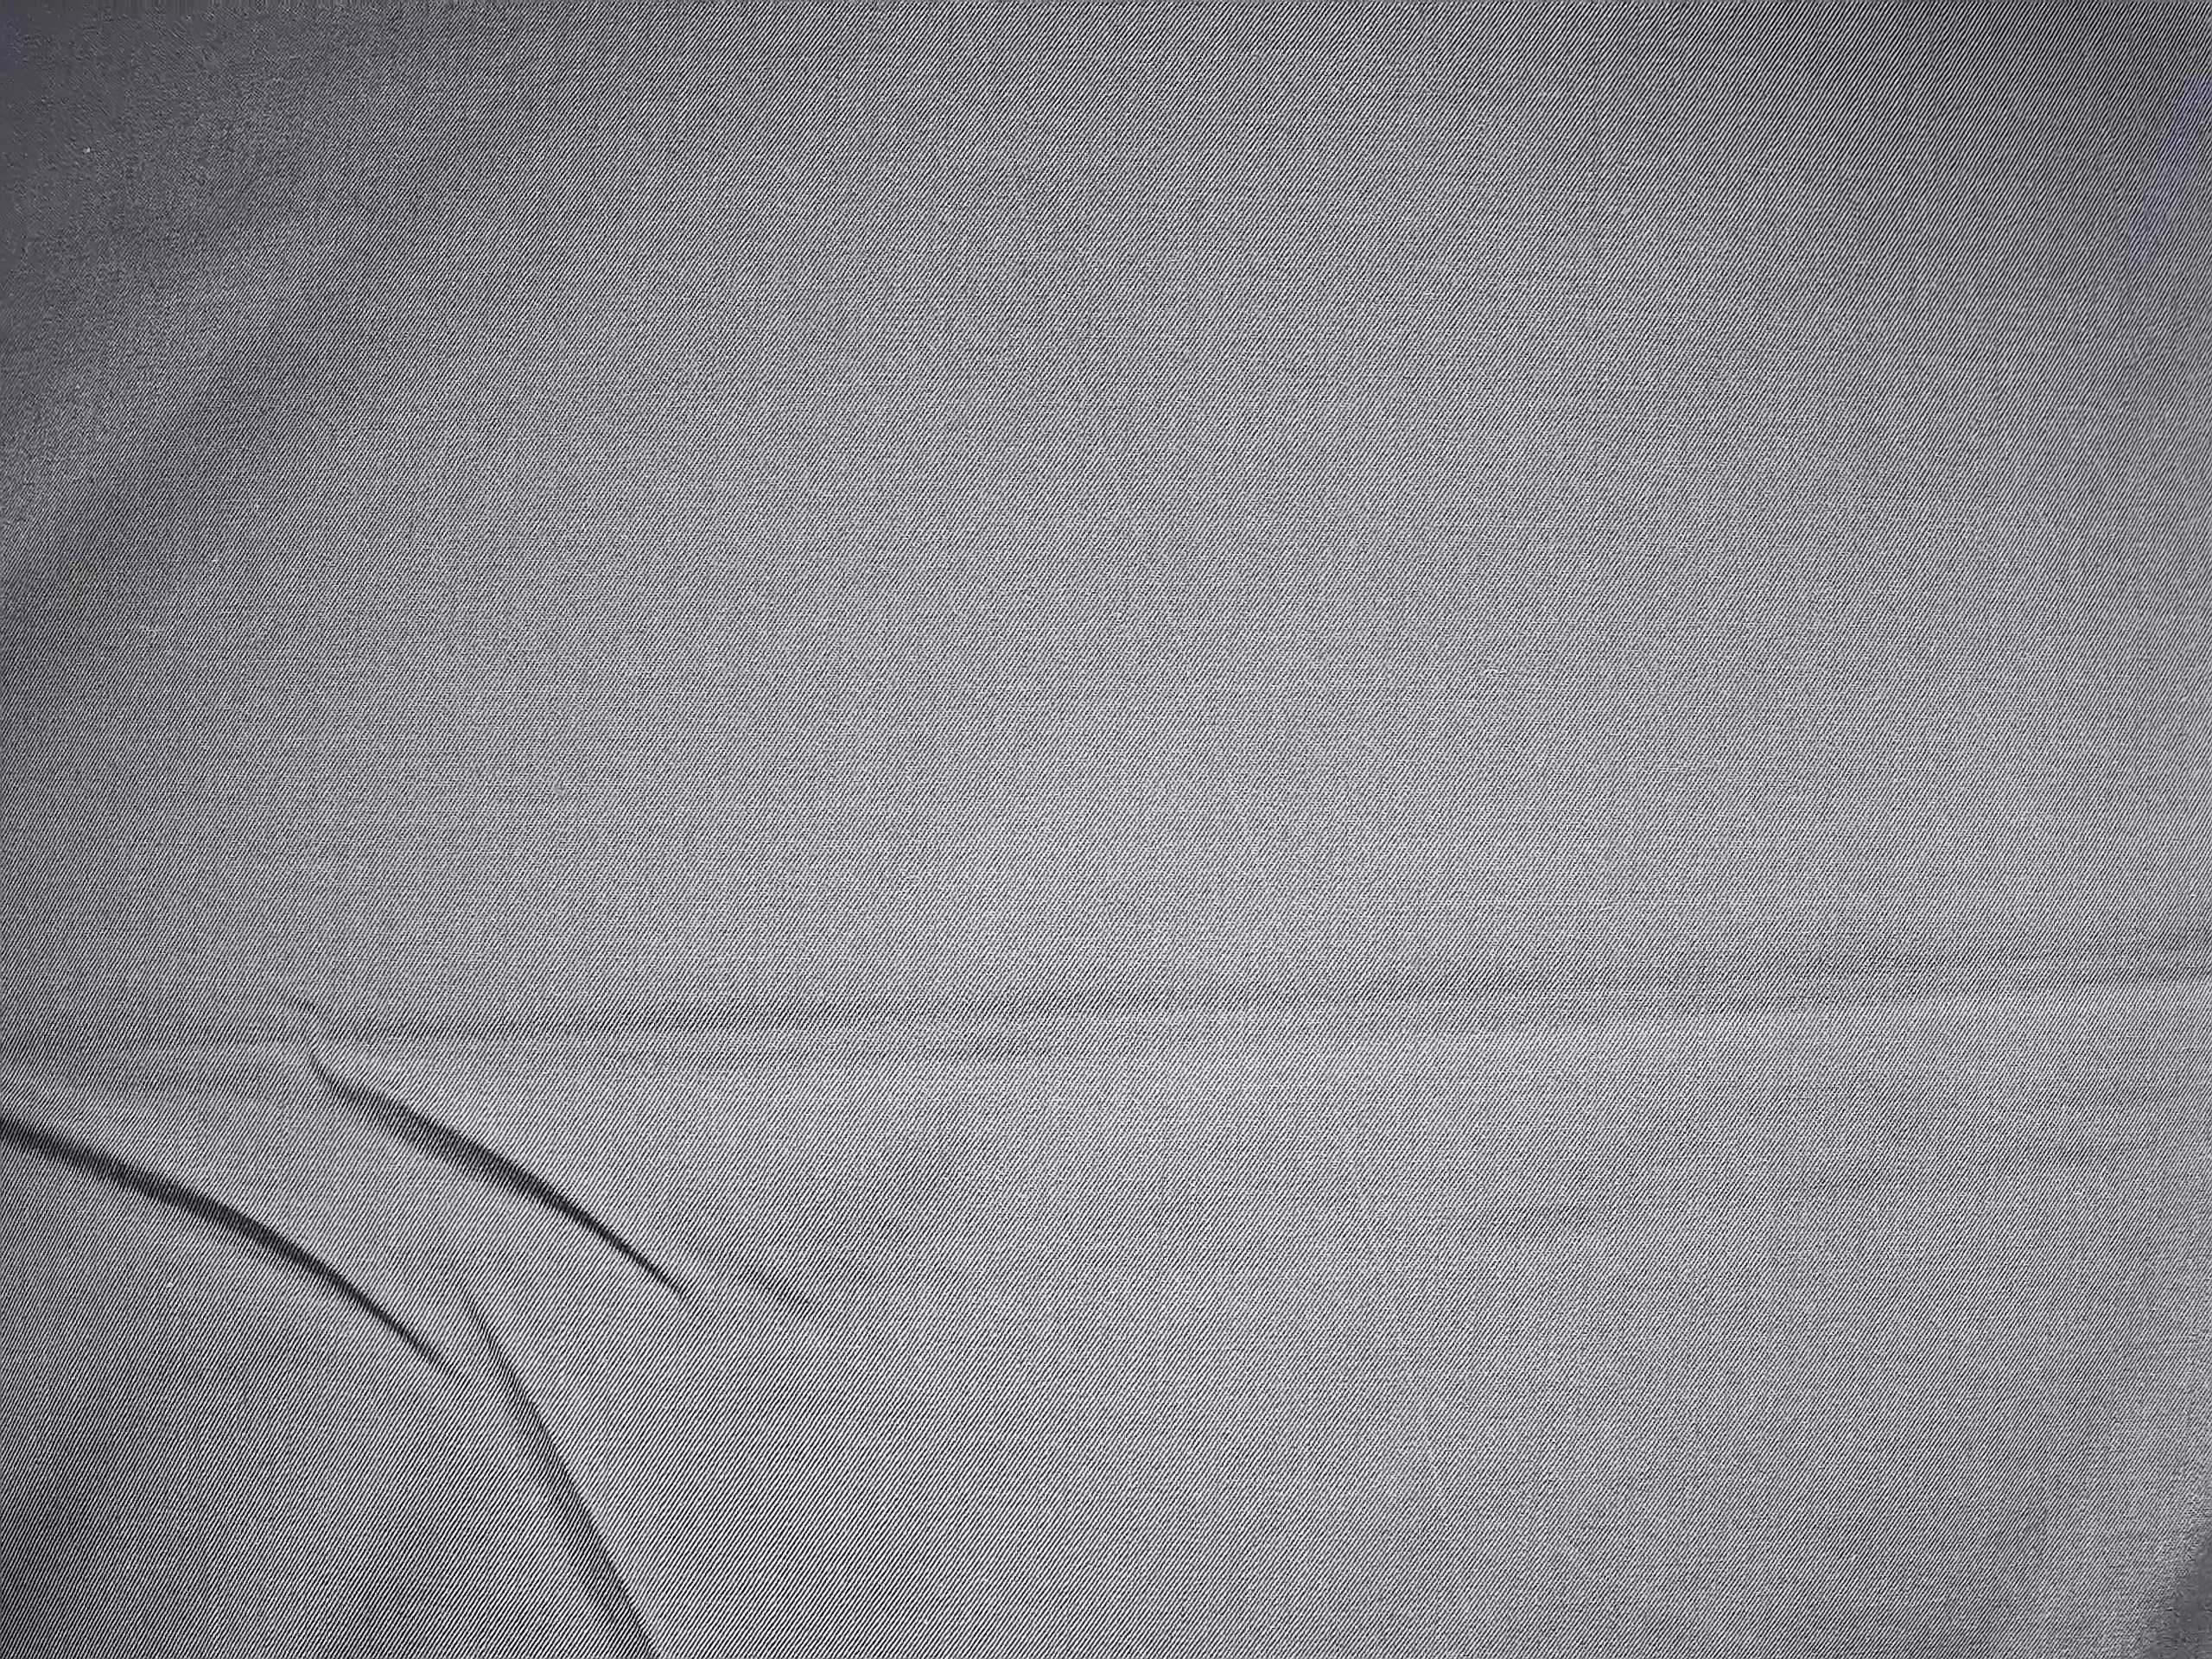others: (942, 31, 1508, 1638)
